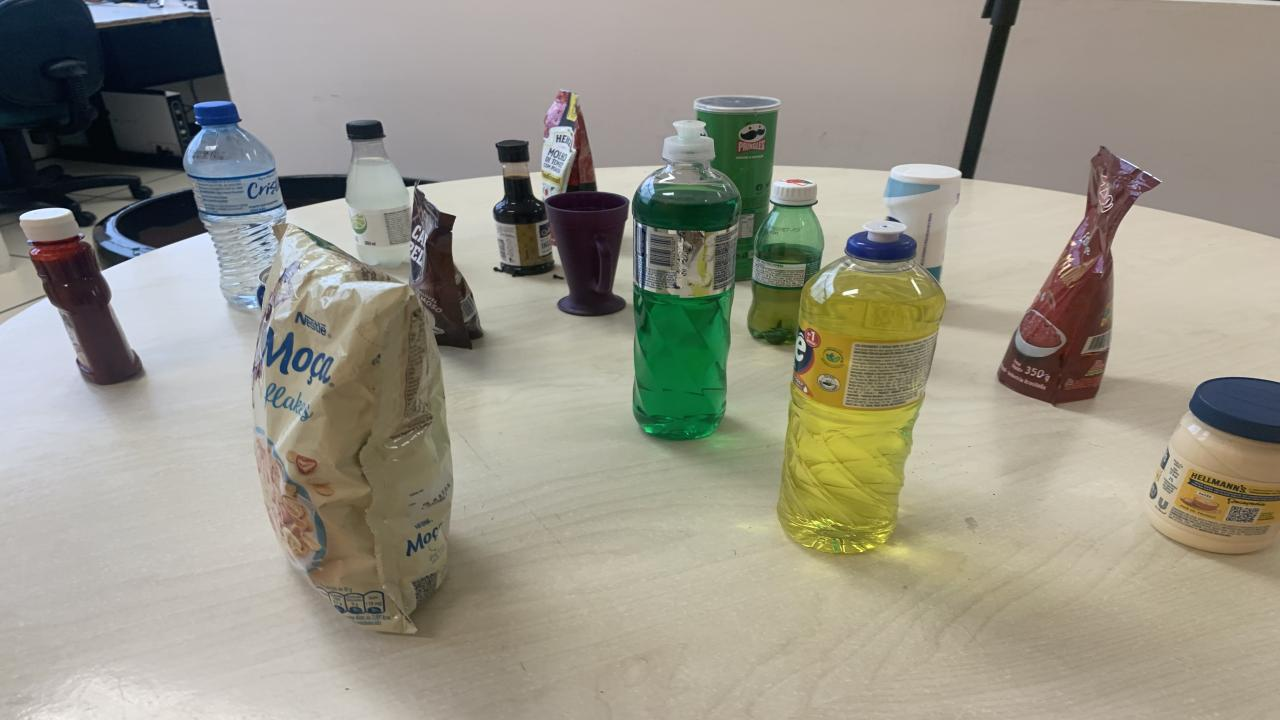Cleaner-Cleanup_Items: (885, 165, 962, 279)
Coffee-Pantry_Items: (410, 188, 482, 349)
Detergent-Cleanup_Items: (778, 221, 945, 553), (632, 122, 740, 441)
English_Sauce-Pantry_Items: (492, 141, 555, 276)
Flakes-Snacks: (252, 225, 452, 634)
Guarana-Drinks: (748, 178, 825, 345)
Ketchup-Pantry_Items: (20, 208, 142, 384)
Mayonnaise-Pantry_Items: (1148, 377, 1280, 553)
Pringles-Snacks: (695, 96, 780, 281)
Soda-Drinks: (345, 120, 410, 268)
Tomato_Sauce-Pantry_Items: (998, 148, 1158, 403), (540, 90, 598, 197)
Water_Bottle-Drinks: (182, 122, 285, 308), (195, 101, 238, 120)
